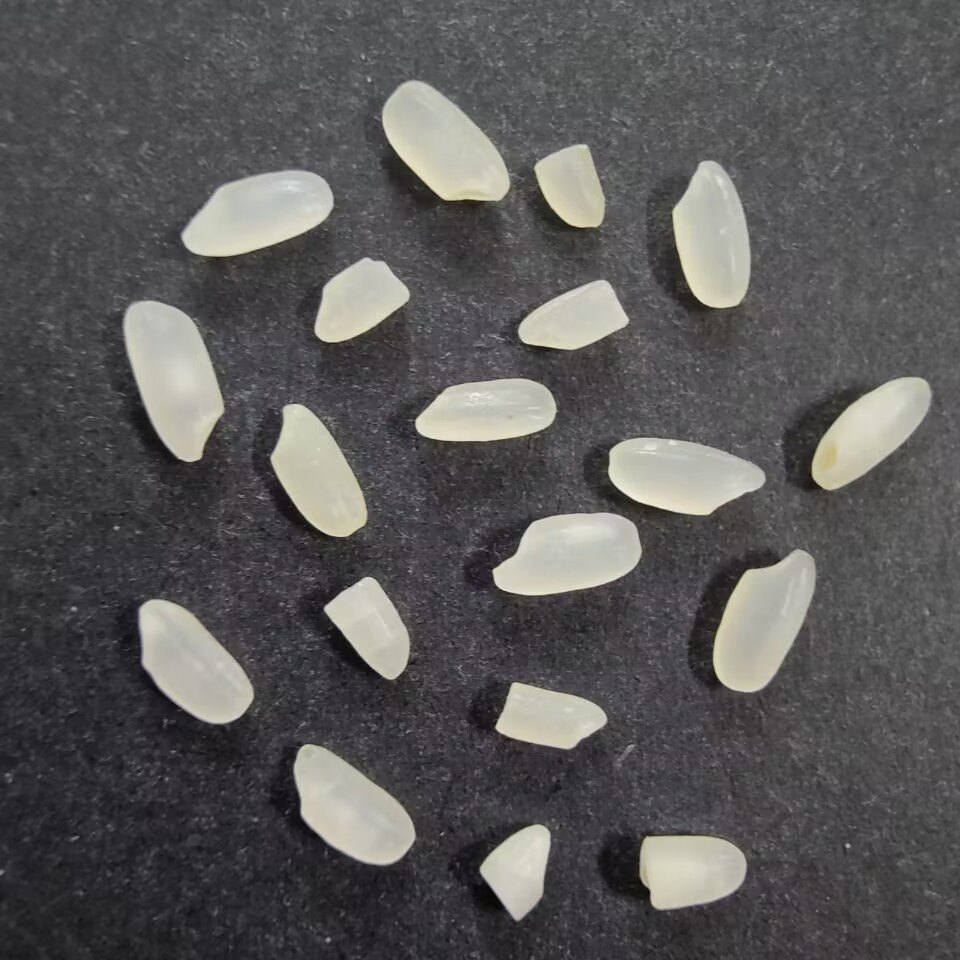broken: (318, 575, 412, 684), (307, 252, 413, 347), (635, 833, 751, 913), (489, 677, 607, 754), (516, 276, 632, 353), (472, 819, 555, 922), (528, 142, 609, 234)
rice: (119, 298, 229, 468), (376, 78, 513, 207), (287, 740, 418, 873), (708, 544, 820, 697), (129, 597, 258, 726), (808, 374, 936, 495), (178, 167, 337, 262), (264, 402, 371, 542), (489, 508, 645, 597), (605, 434, 767, 518), (669, 156, 754, 311), (410, 376, 559, 448)
